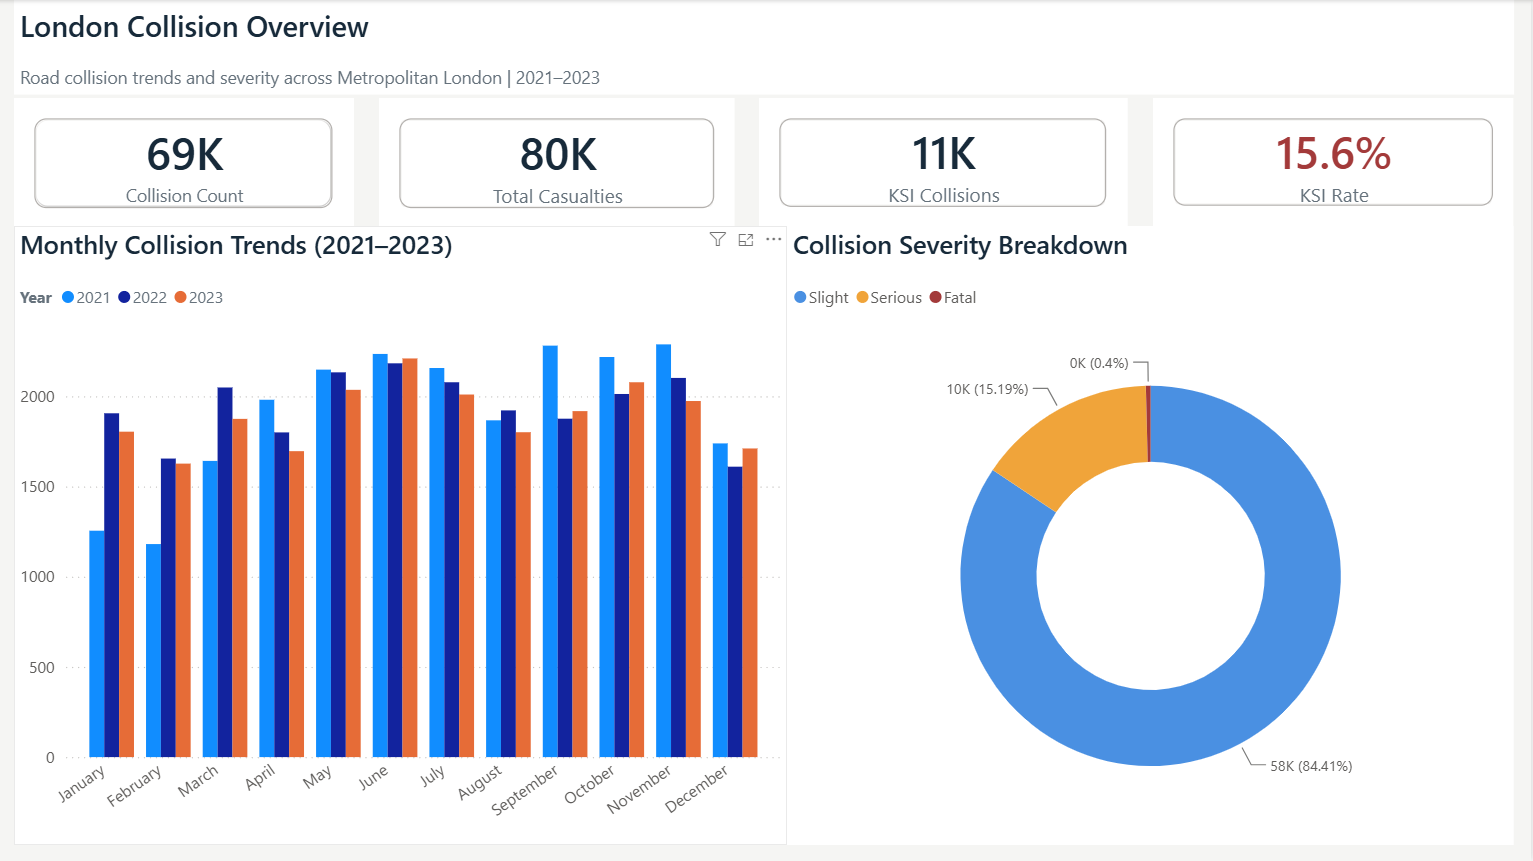

The page's visual inventory and layout, read from the dashboard file:
{"tool":"powerbi","page":{"name":"London Collision Overview","canvas":[1280,720],"ordinal":0},"visuals":[{"type":"cardVisual","fields":{"Data":["KPI Measures.Collision Count"]},"box":[12.4,81.6,283.7,110],"z":0},{"type":"cardVisual","fields":{"Data":["KPI Measures.Total Casualties"]},"box":[317.1,81.6,297,109.1],"z":1000},{"type":"cardVisual","fields":{"Data":["KPI Measures.KSI Collisions"]},"box":[635.2,81.6,307.7,108.2],"z":2000},{"type":"cardVisual","fields":{"Data":["KPI Measures.KSI Rate"]},"box":[963.8,81.6,301.5,107.3],"z":3000},{"type":"clusteredColumnChart","title":"Monthly Collision Trends (2021–2023)","fields":{"Category":["Data.Month Name"],"Y":["KPI Measures.Collision Count"],"Series":["Data.collision_year"]},"box":[12.4,188.9,645.5,516.9],"z":4000},{"type":"donutChart","title":"Collision Severity Breakdown","fields":{"Category":["Data.Severity"],"Y":["KPI Measures.Collision Count"]},"box":[657.9,188.9,607.4,516.9],"z":5000},{"type":"textbox","box":[12.4,0,1252.9,78.9],"z":5001}]}

Visuals, with their boxes in screenshot pixels (x1, y1, x2, y2), scaled from the page's 1280x720 canvas onto the 1533x861 screenshot:
cardVisual - KPI Measures.Collision Count: locate(15, 98, 355, 229)
cardVisual - KPI Measures.Total Casualties: locate(380, 98, 735, 228)
cardVisual - KPI Measures.KSI Collisions: locate(761, 98, 1129, 227)
cardVisual - KPI Measures.KSI Rate: locate(1154, 98, 1515, 226)
"Monthly Collision Trends (2021–2023)" clusteredColumnChart: locate(15, 226, 788, 844)
"Collision Severity Breakdown" donutChart: locate(788, 226, 1515, 844)
textbox: locate(15, 0, 1515, 94)
